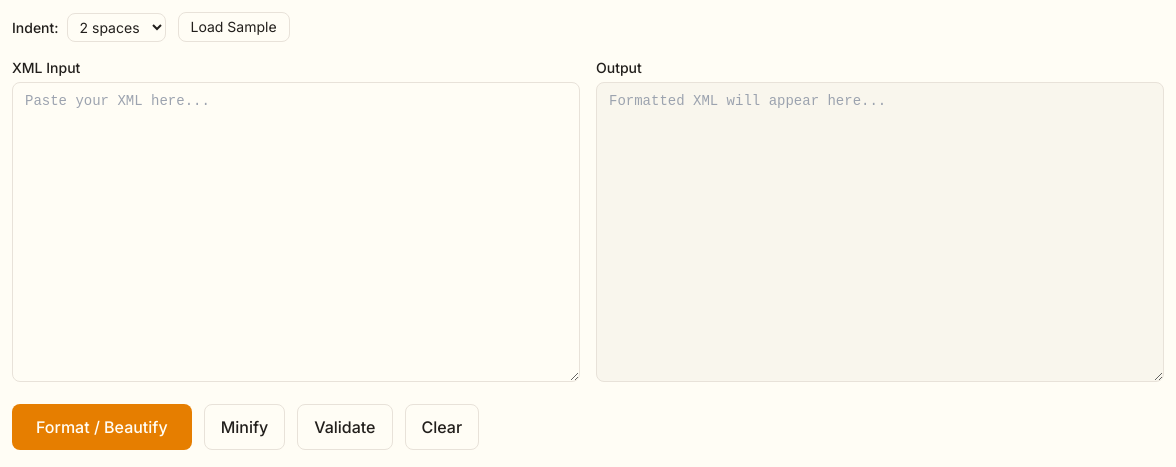
Test: XmlFormatter › clears input, output, and errors when Clear is clicked
This screenshot has width=1176, height=467.
Type "<root></root>" into the text box with placeholder "Paste your XML here...".
click(296, 232); type("<root></root>")  # box [12,82,580,382]
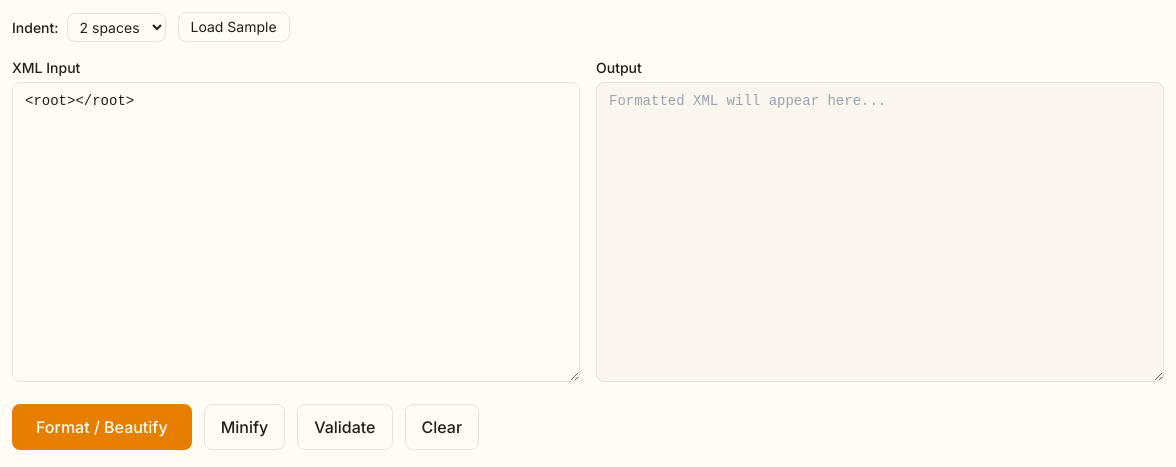
Click the button "Format / Beautify".
click(102, 427)  # box [12,404,192,450]
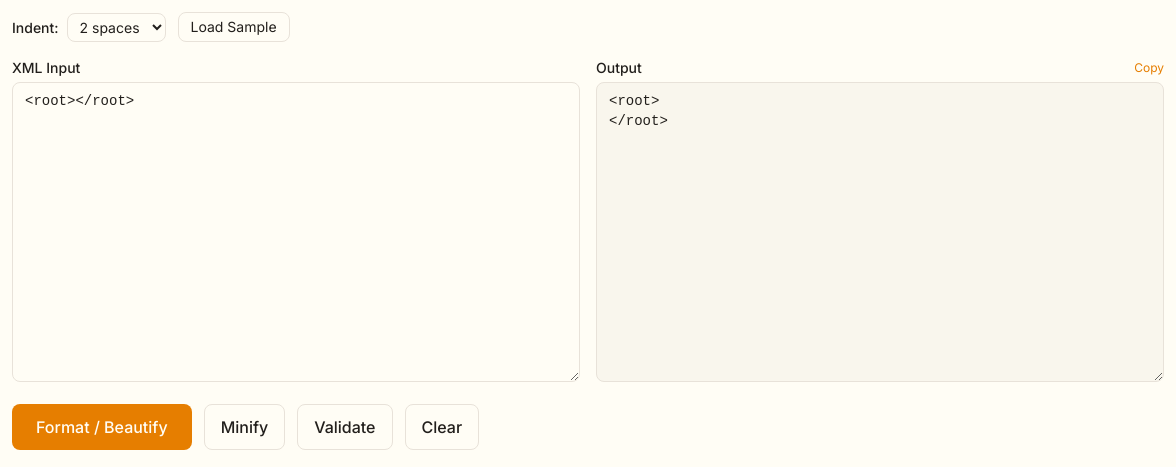
Click the button "Clear".
click(442, 427)  # box [404,404,479,450]
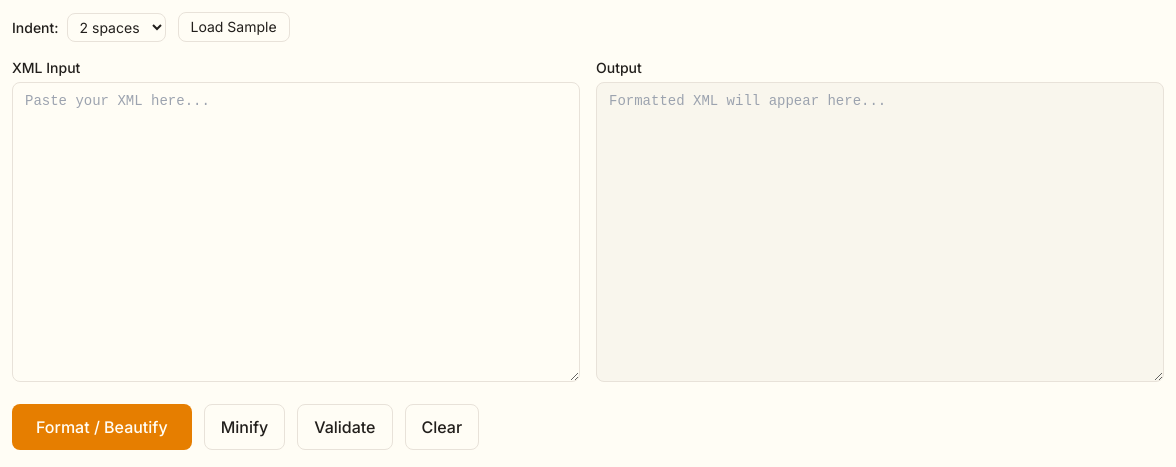
Expected: the text box with placeholder "Paste your XML here..." is empty, [12,82,580,382]
Expected: the text box named "XML output" is empty, [596,82,1164,382]
